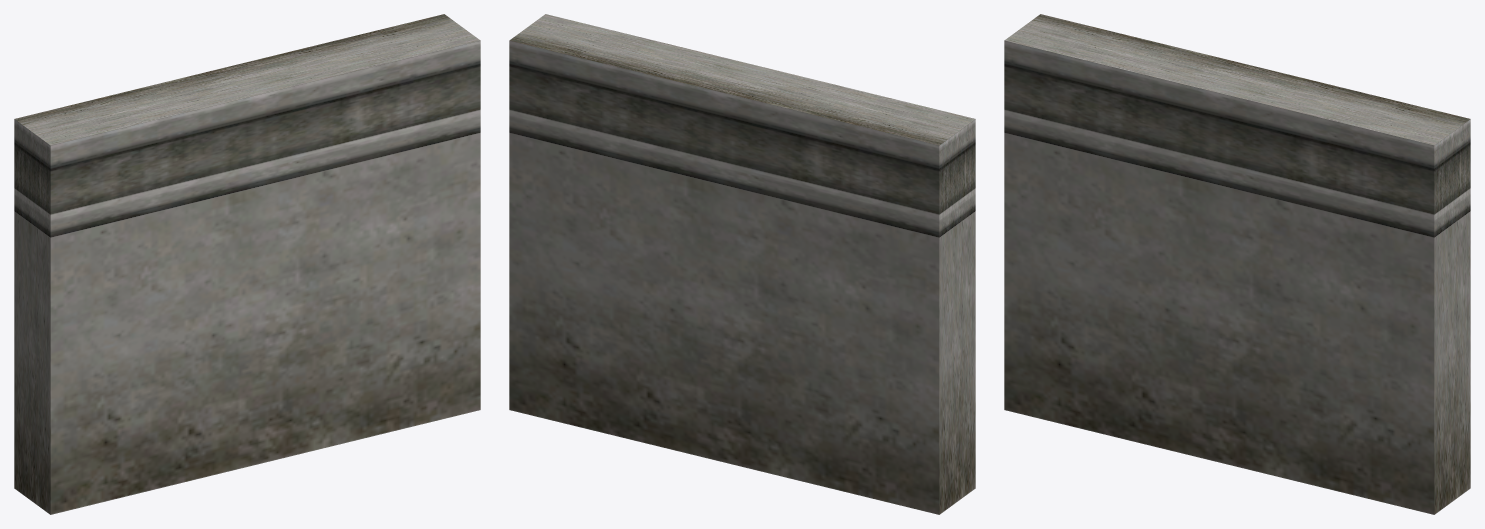
Rendered from SD_MAINHALL_02.fbx.
3 views of the same model, side by side, from view 1: azimuth 30°, elevation 25°; view 2: azimuth 150°, elevation 25°; view 3: azimuth 330°, elevation 25° (orthographic).
Visible parts, largest first — view 1: SD_MAINHALL_02; view 2: SD_MAINHALL_02; view 3: SD_MAINHALL_02.
Boxes of the visible parts, x1=… form: SD_MAINHALL_02: x1=14, y1=14, x2=480, y2=514; SD_MAINHALL_02: x1=509, y1=14, x2=975, y2=514; SD_MAINHALL_02: x1=1004, y1=14, x2=1470, y2=514.
Bounding box in the file's own units: 29247 × 24000 × 4280.
2 materials, 2 textured.
